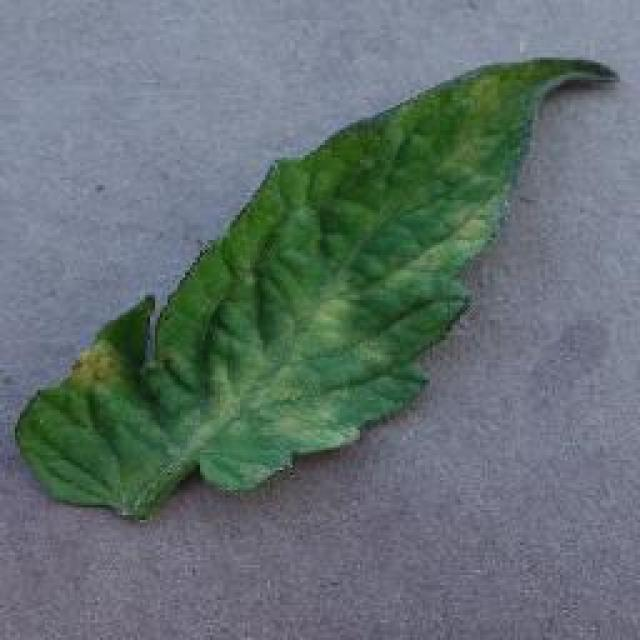Tomato mold leaf: (18, 55, 618, 520)
